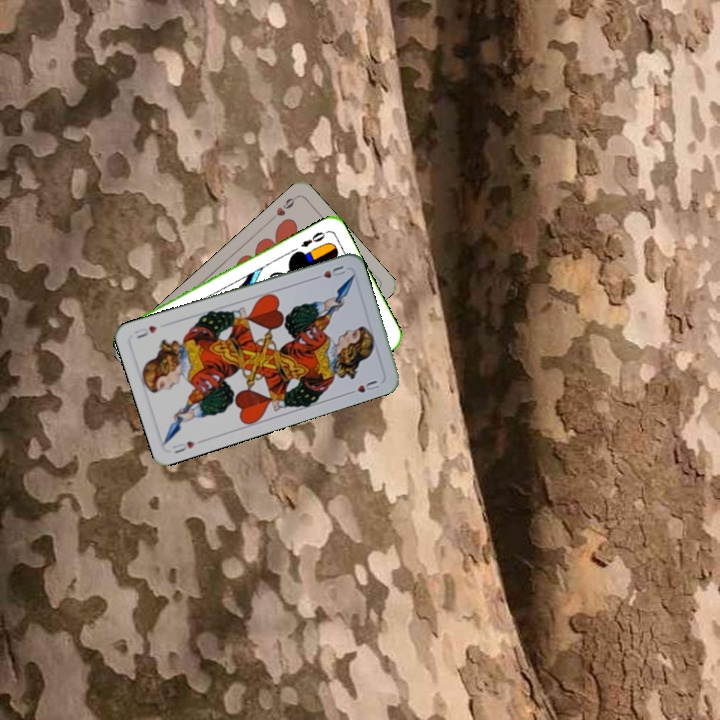EO: (297, 227, 330, 250)
H9: (266, 192, 300, 223)
HU: (309, 262, 348, 282), (169, 437, 197, 456)
